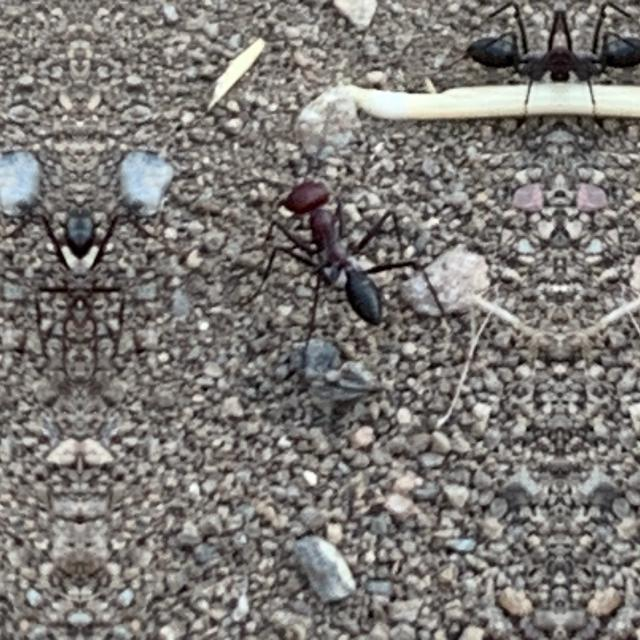Cataglyphis: (268, 153, 422, 360), (456, 0, 558, 120), (80, 168, 126, 414), (34, 168, 80, 414), (560, 0, 640, 120)
